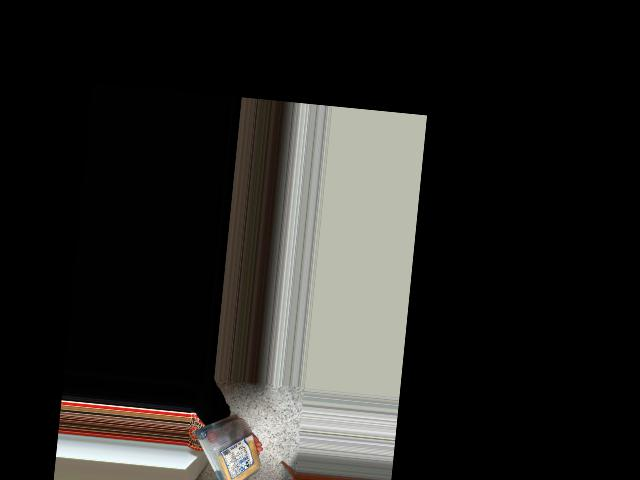cheese: (194, 412, 265, 480)
